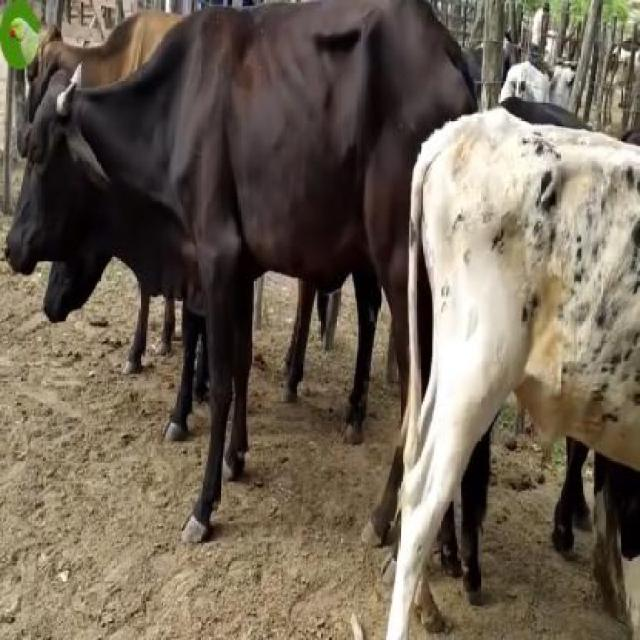Cow: (4, 0, 477, 598)
